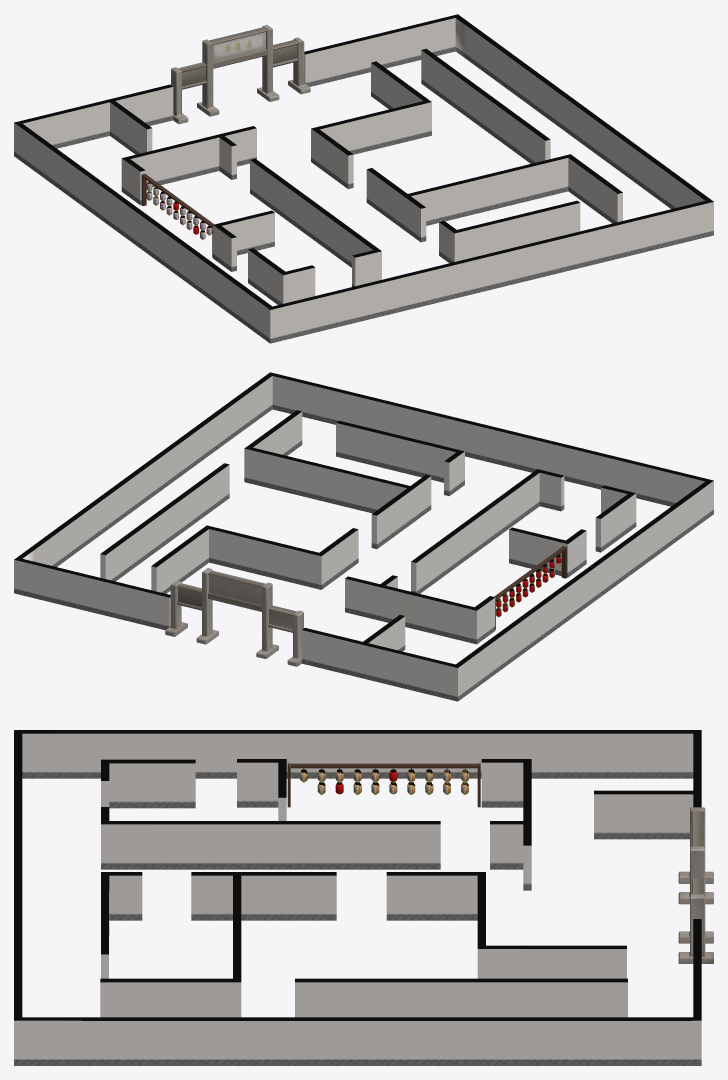
File: Lvl 2.fbx
The picture shows the model from 3 angles, top to bottom: view 1: azimuth 30°, elevation 25°; view 2: azimuth 150°, elevation 25°; view 3: azimuth 270°, elevation 25°; orthographic projection. The views are drawn at different scales.
Visible parts, largest first — view 1: Wall 1.048, Corner 1.032, Corner 1.031, Cube.001, Corner 1.024, Wall 1.054, Wall 1.040, Corner 1.019, Wall 1.038, Wall 1.047, Corner 1.020, Wall 1.041 (+19 smaller); view 2: Wall 1.048, Corner 1.032, Corner 1.031, Wall 1.054, Corner 1.019, Cube.001, Corner 1.024, Wall 1.040, Wall 1.047, Wall 1.038, Corner 1.020, Wall 1.041 (+20 smaller); view 3: Corner 1.031, Corner 1.032, Wall 1.040, Wall 1.041, Wall 1.032, Wall 1.052, Corner 1.026, Wall 1.031, Cube.001, Wall 1.048, Wall 1.043, Wall 1.053 (+21 smaller).
Part boxes in pixels (<box>): Wall 1.048: <box>267,201,708,343</box>; Corner 1.032: <box>14,121,271,340</box>; Corner 1.031: <box>455,16,713,236</box>; Cube.001: <box>171,25,310,124</box>; Corner 1.024: <box>408,154,573,225</box>; Wall 1.054: <box>304,14,460,86</box>; Wall 1.040: <box>421,48,550,163</box>; Corner 1.019: <box>20,84,173,148</box>; Wall 1.038: <box>451,200,580,262</box>; Wall 1.047: <box>127,126,256,187</box>; Corner 1.020: <box>317,101,426,154</box>; Wall 1.041: <box>285,185,363,267</box>; Wall 1.048: <box>272,373,713,515</box>; Corner 1.032: <box>452,481,710,701</box>; Corner 1.031: <box>17,372,275,566</box>; Wall 1.054: <box>14,557,170,630</box>; Corner 1.019: <box>302,628,455,700</box>; Cube.001: <box>165,568,303,666</box>; Corner 1.024: <box>244,446,409,513</box>; Wall 1.040: <box>100,463,229,581</box>; Wall 1.047: <box>345,576,473,642</box>; Wall 1.038: <box>336,420,464,486</box>; Corner 1.020: <box>209,526,318,588</box>; Wall 1.041: <box>447,482,524,570</box>; Corner 1.031: <box>14,1017,693,1065</box>; Corner 1.032: <box>22,730,701,778</box>; Wall 1.040: <box>295,978,627,1017</box>; Wall 1.041: <box>150,821,344,869</box>; Wall 1.032: <box>241,872,336,920</box>; Wall 1.052: <box>345,821,440,869</box>; Corner 1.026: <box>109,759,195,808</box>; Wall 1.031: <box>100,978,199,1017</box>; Cube.001: <box>678,807,713,963</box>; Wall 1.048: <box>14,730,22,1017</box>; Wall 1.043: <box>594,790,643,839</box>; Wall 1.053: <box>386,872,436,920</box>.
Bounding box in the file's own units: 82.94 × 12.28 × 84.35.
